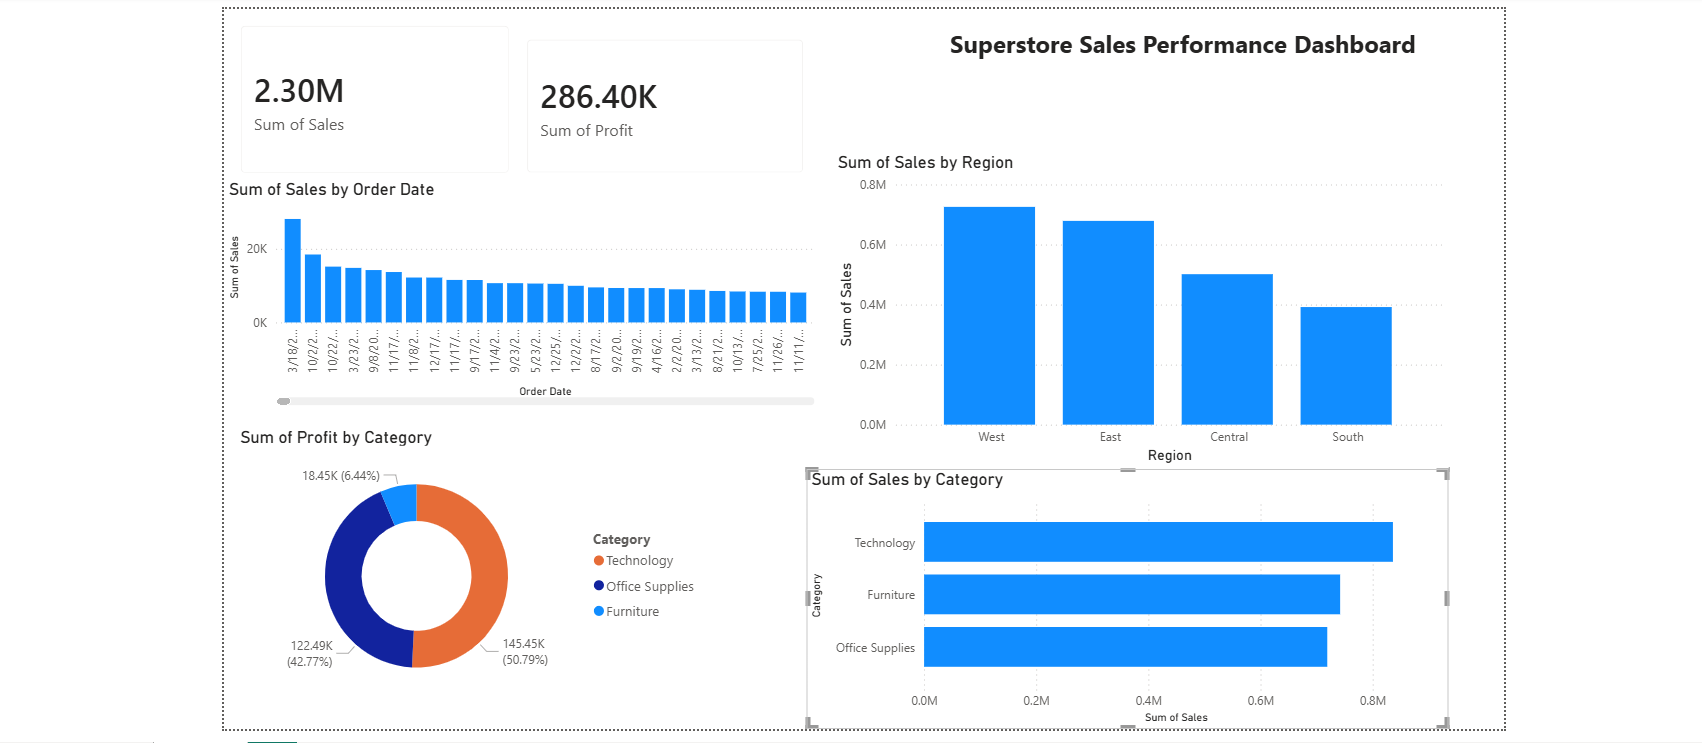

Layout of this report page (visuals, bound fields, positions):
{"tool":"powerbi","page":{"name":"Page 1","canvas":[1280,720],"ordinal":0},"visuals":[{"type":"cardVisual","fields":{"Data":["Sum(Sample - Superstore.Sales)"]},"box":[0,0,302.9,181.4],"z":0},{"type":"cardVisual","fields":{"Data":["Sum(Sample - Superstore.Profit)"]},"box":[285.7,14.3,310,167.1],"z":1000},{"type":"clusteredBarChart","fields":{"Category":["Sample - Superstore.Category"],"Y":["Sum(Sample - Superstore.Sales)"]},"box":[582.9,460,641.4,260],"z":2000},{"type":"lineStackedColumnComboChart","fields":{"Category":["Sample - Superstore.Order Date"],"Y":["Sum(Sample - Superstore.Sales)"]},"box":[0,170,595.7,231.4],"z":3000},{"type":"clusteredColumnChart","fields":{"Category":["Sample - Superstore.Region"],"Y":["Sum(Sample - Superstore.Sales)"]},"box":[608.6,142.9,615.7,317.1],"z":4000},{"type":"donutChart","fields":{"Category":["Sample - Superstore.Category"],"Y":["Sum(Sample - Superstore.Profit)"]},"box":[11.4,417.1,472.9,280],"z":5000},{"type":"textbox","box":[718.6,14.3,487.1,64.3],"z":6000}]}

Visuals, with their boxes on the page's 1280x720 design canvas (x1, y1, x2, y2). These are canvas units, not pixel positions in the 1702x743 screenshot, which may show the page scaled, cropped or inside an application window:
cardVisual - Sum(Sample - Superstore.Sales): box=[0, 0, 303, 181]
cardVisual - Sum(Sample - Superstore.Profit): box=[286, 14, 596, 181]
clusteredBarChart - Sample - Superstore.Category x Sum(Sample - Superstore.Sales): box=[583, 460, 1224, 720]
lineStackedColumnComboChart - Sample - Superstore.Order Date x Sum(Sample - Superstore.Sales): box=[0, 170, 596, 401]
clusteredColumnChart - Sample - Superstore.Region x Sum(Sample - Superstore.Sales): box=[609, 143, 1224, 460]
donutChart - Sample - Superstore.Category x Sum(Sample - Superstore.Profit): box=[11, 417, 484, 697]
textbox: box=[719, 14, 1206, 79]
